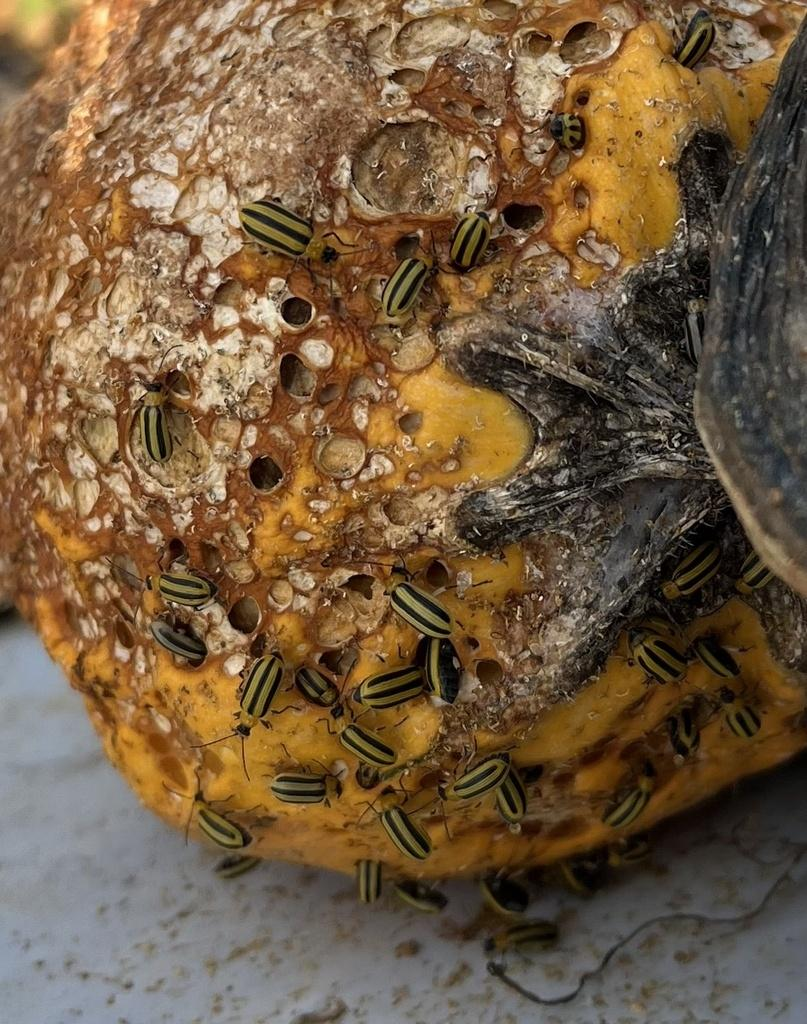potato_beetle: (217, 164, 327, 281), (349, 236, 447, 336), (377, 564, 471, 666), (116, 380, 190, 477)
